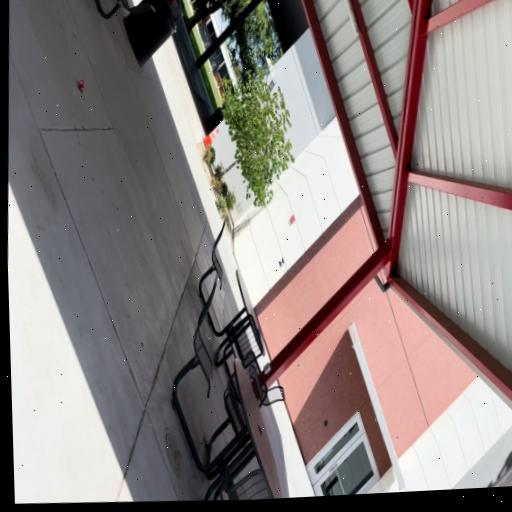target9: (278, 256, 284, 267)
